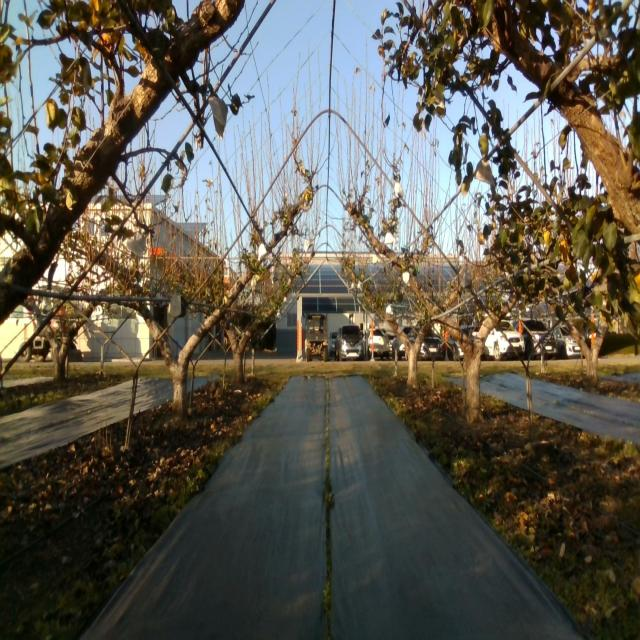pearbags: (208, 95, 228, 140), (123, 231, 147, 258), (474, 157, 494, 186), (462, 268, 473, 289)
